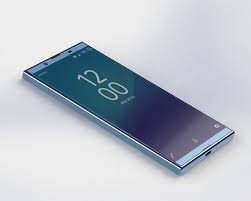sony: (17, 38, 238, 175)
